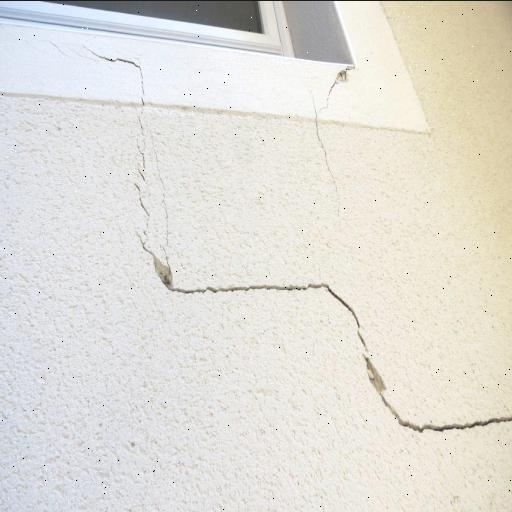spalling: (129, 216, 507, 437), (78, 39, 150, 80)
